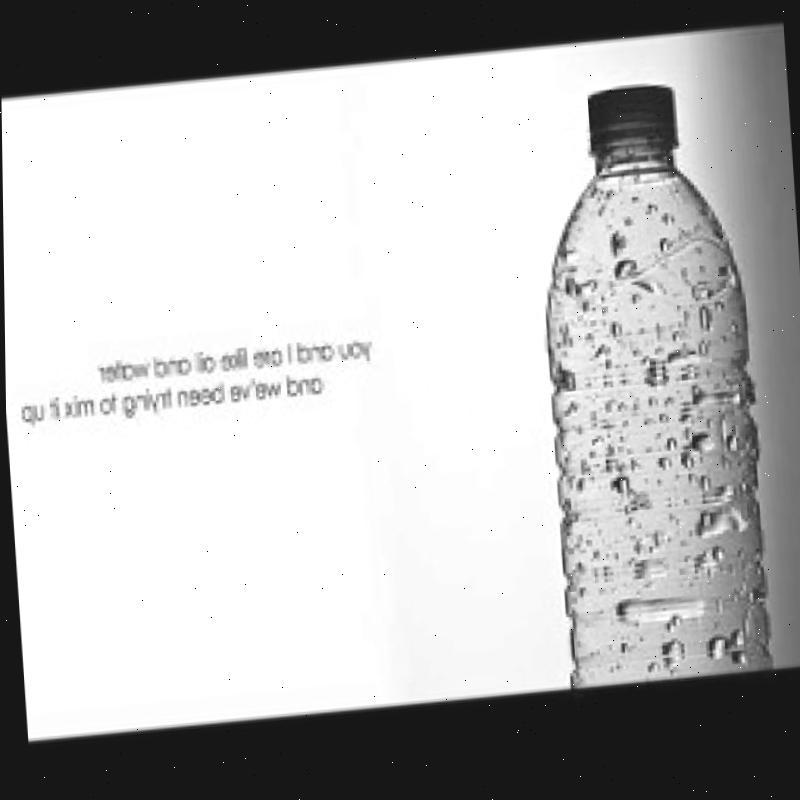botella: (526, 82, 776, 695)
